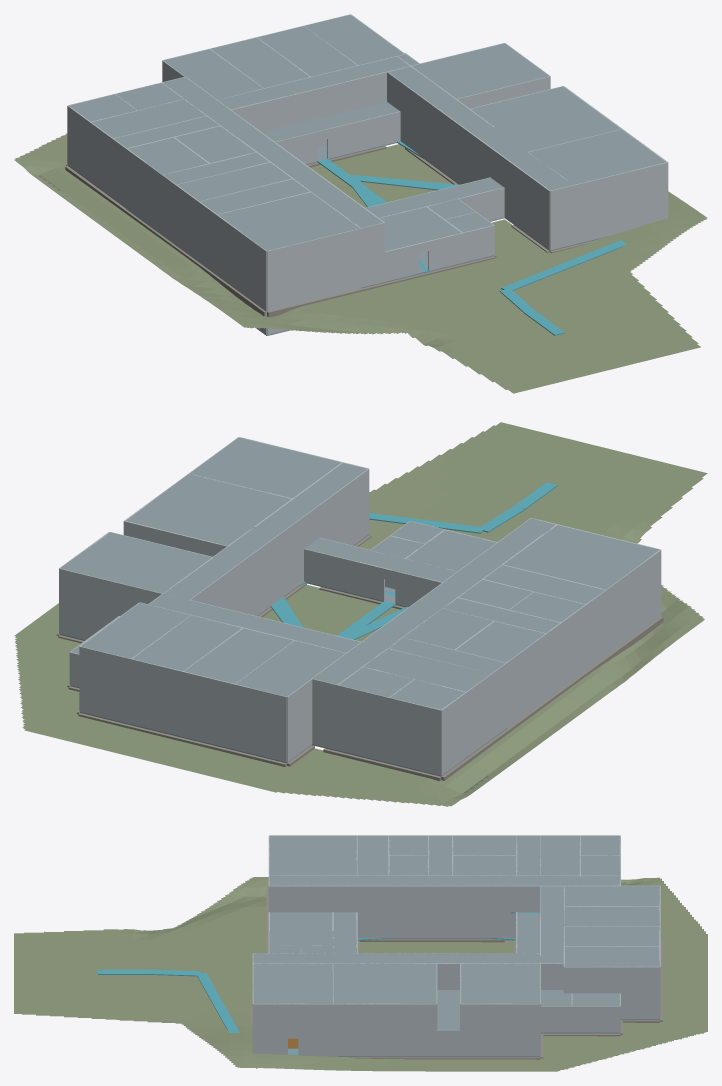
The model's file is supported-terrain.glb.
3 views of the same model, one above another, from view 1: azimuth 30°, elevation 25°; view 2: azimuth 150°, elevation 25°; view 3: azimuth 270°, elevation 25° (orthographic). The views are drawn at different scales.
Visible parts, largest first — view 1: Saved editor macroterrain ACADEMY, Ceiling cap study, Wall upper-east W, Ceiling cap upper-west, Ceiling cap upper-main-stair, Wall upper-north S, Ceiling cap restricted, Ceiling cap upper-east-stair, Ceiling cap upper-east, Wall upper-main-stair S, Wall upper-east-stair S, Wall main-stair S (+44 smaller); view 2: Saved editor macroterrain ACADEMY, Ceiling cap study, Ceiling cap upper-west, Wall upper-east W, Ceiling cap upper-main-stair, Ceiling cap restricted, Ceiling cap upper-east-stair, Ceiling cap upper-east, Ceiling cap dorm-1, Ceiling cap dorm-4, Ceiling cap dorm-3, Ceiling cap dorm-2 (+51 smaller); view 3: Saved editor macroterrain ACADEMY, Wall upper-west E.001, Wall west E.001, Ceiling cap study, Ceiling cap upper-main-stair, Ceiling cap upper-west, Ceiling cap restricted, Ceiling cap upper-east-stair, Ceiling cap upper-east, Wall study E, Wall lecture E, Wall dorm-4 E (+33 smaller).
Boxes of the visible parts, <box> form: Saved editor macroterrain ACADEMY: <box>14,133,707,393</box>; Ceiling cap study: <box>470,86,620,151</box>; Wall upper-east W: <box>387,72,550,220</box>; Ceiling cap upper-west: <box>163,77,383,228</box>; Ceiling cap upper-main-stair: <box>218,192,359,250</box>; Wall upper-north S: <box>231,70,393,131</box>; Ceiling cap restricted: <box>412,43,549,98</box>; Ceiling cap upper-east-stair: <box>529,129,666,184</box>; Ceiling cap upper-east: <box>388,66,572,190</box>; Wall upper-main-stair S: <box>267,228,361,280</box>; Wall upper-east-stair S: <box>574,162,667,214</box>; Wall main-stair S: <box>267,258,361,310</box>; Saved editor macroterrain ACADEMY: <box>14,422,707,806</box>; Ceiling cap study: <box>126,474,291,545</box>; Ceiling cap upper-west: <box>312,518,555,684</box>; Wall upper-east W: <box>189,469,369,607</box>; Ceiling cap upper-main-stair: <box>503,525,659,589</box>; Ceiling cap restricted: <box>60,532,211,593</box>; Ceiling cap upper-east-stair: <box>190,437,341,498</box>; Ceiling cap upper-east: <box>163,462,367,599</box>; Ceiling cap dorm-1: <box>236,640,345,696</box>; Ceiling cap dorm-4: <box>81,602,190,658</box>; Ceiling cap dorm-3: <box>132,615,241,670</box>; Ceiling cap dorm-2: <box>185,628,293,683</box>; Saved editor macroterrain ACADEMY: <box>14,877,707,1071</box>; Wall upper-west E.001: <box>269,885,546,912</box>; Wall west E.001: <box>357,912,515,938</box>; Ceiling cap study: <box>333,963,436,1003</box>; Ceiling cap upper-main-stair: <box>269,835,356,875</box>; Ceiling cap upper-west: <box>269,876,620,885</box>; Ceiling cap restricted: <box>460,963,540,1003</box>; Ceiling cap upper-east-stair: <box>253,963,332,1003</box>; Ceiling cap upper-east: <box>253,953,540,963</box>; Wall study E: <box>333,1003,436,1030</box>; Wall lecture E: <box>333,1030,436,1056</box>; Wall dorm-4 E: <box>564,966,659,993</box>.
Size of the model in its own units: 58 by 10.36 by 87.
